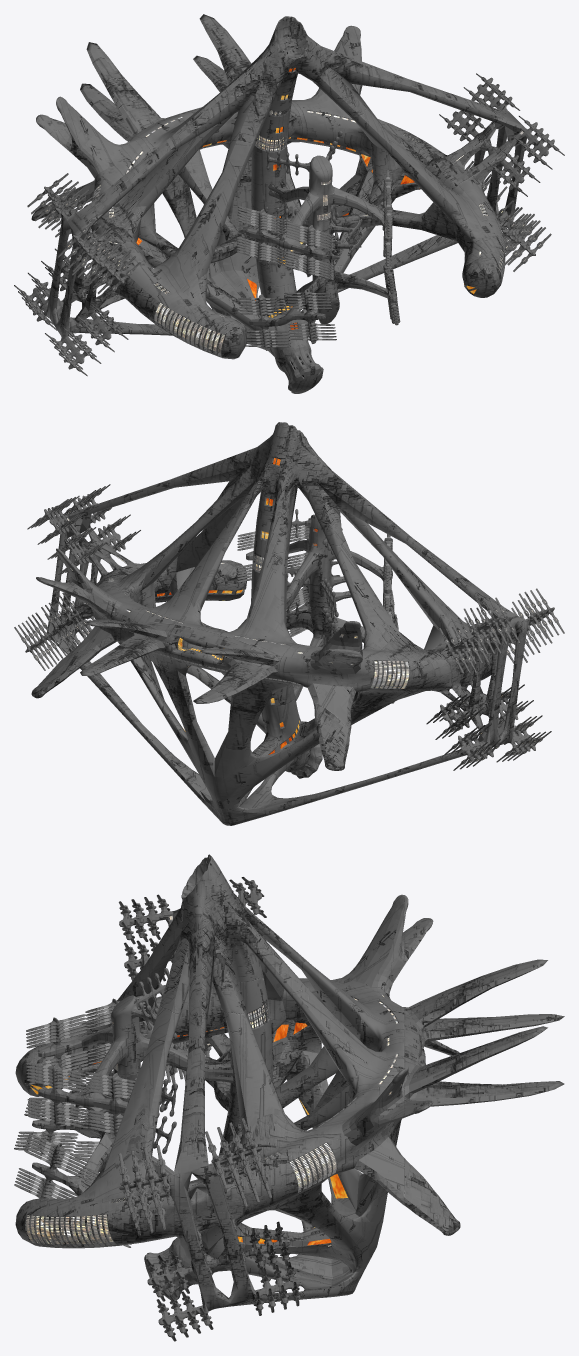
File: spacestation3.glb
3 views of the same model, one above another, from view 1: azimuth 30°, elevation 25°; view 2: azimuth 150°, elevation 25°; view 3: azimuth 270°, elevation 25° (orthographic). The views are drawn at different scales.
Visible parts, largest first — view 1: MaterialFBXASC032FBXASC0352142150880, SG-Window, MaterialFBXASC032FBXASC03511231, SG-Gold-glow; view 2: MaterialFBXASC032FBXASC0352142150880, SG-Window, SG-Gold-glow; view 3: MaterialFBXASC032FBXASC0352142150880, SG-Window, MaterialFBXASC032FBXASC03511231, SG-Gold-glow.
Boxes of the visible parts, bbox=[...] form: MaterialFBXASC032FBXASC0352142150880: bbox=[14, 14, 564, 393]; SG-Window: bbox=[39, 110, 540, 352]; MaterialFBXASC032FBXASC03511231: bbox=[250, 177, 395, 347]; SG-Gold-glow: bbox=[136, 68, 476, 329]; MaterialFBXASC032FBXASC0352142150880: bbox=[14, 422, 564, 825]; SG-Window: bbox=[24, 494, 556, 761]; SG-Gold-glow: bbox=[157, 458, 317, 754]; MaterialFBXASC032FBXASC0352142150880: bbox=[14, 854, 564, 1341]; SG-Window: bbox=[26, 916, 401, 1246]; MaterialFBXASC032FBXASC03511231: bbox=[30, 1005, 128, 1198]; SG-Gold-glow: bbox=[30, 1022, 347, 1245].
Size of the model in its own units: 217 by 154 by 174.
5 materials, 4 textured.
